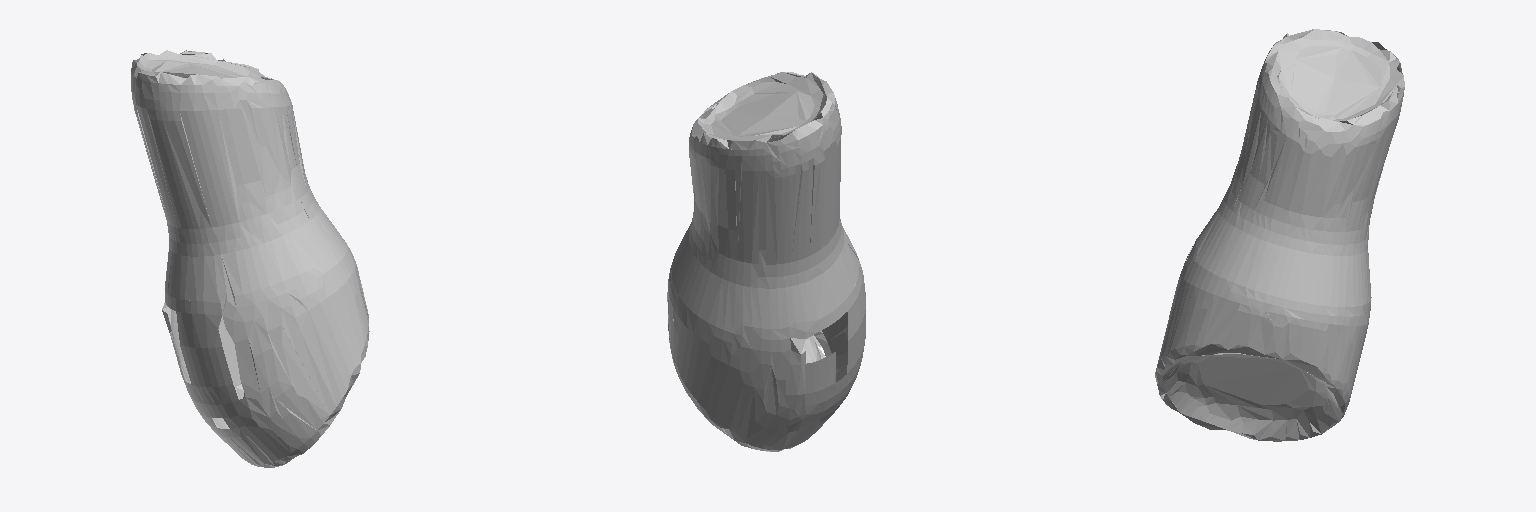
File: Nao6_Right_Arm_Forearm_White.obj
3 views of the same model, side by side, from view 1: azimuth 30°, elevation 25°; view 2: azimuth 150°, elevation 25°; view 3: azimuth 270°, elevation 25° (orthographic).
Parts seen in each view (by area): view 1: Nao6_Right_Arm_Forearm_White; view 2: Nao6_Right_Arm_Forearm_White; view 3: Nao6_Right_Arm_Forearm_White.
Boxes of the visible parts, <box> form: Nao6_Right_Arm_Forearm_White: <box>131,50,369,467</box>; Nao6_Right_Arm_Forearm_White: <box>667,72,865,451</box>; Nao6_Right_Arm_Forearm_White: <box>1155,29,1404,441</box>.
Size of the model in its own units: 0.4377 by 0.9069 by 0.5319.